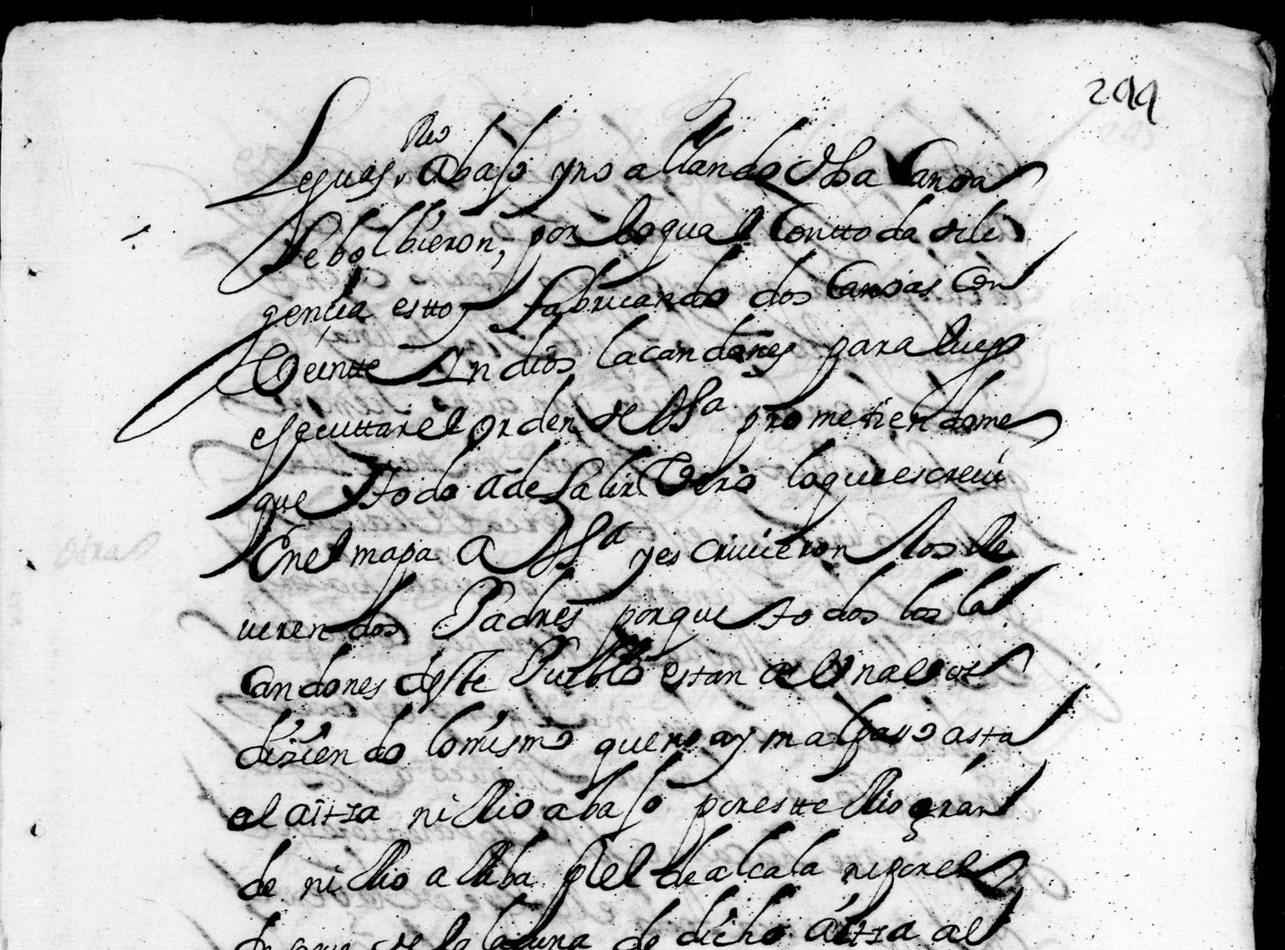lacandon: (595, 313, 796, 378)
